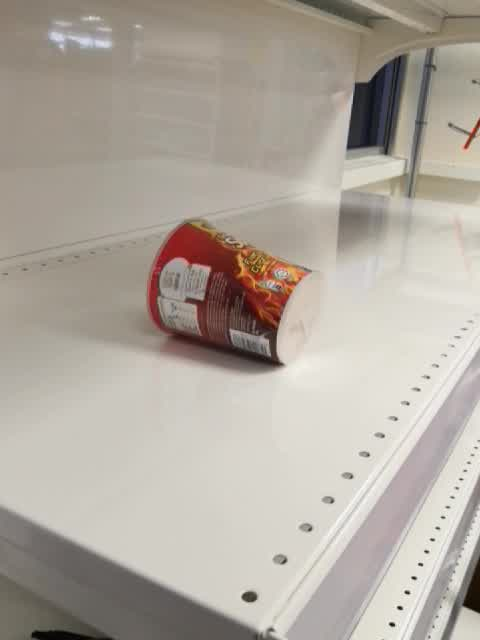maggi: (145, 217, 337, 368)
